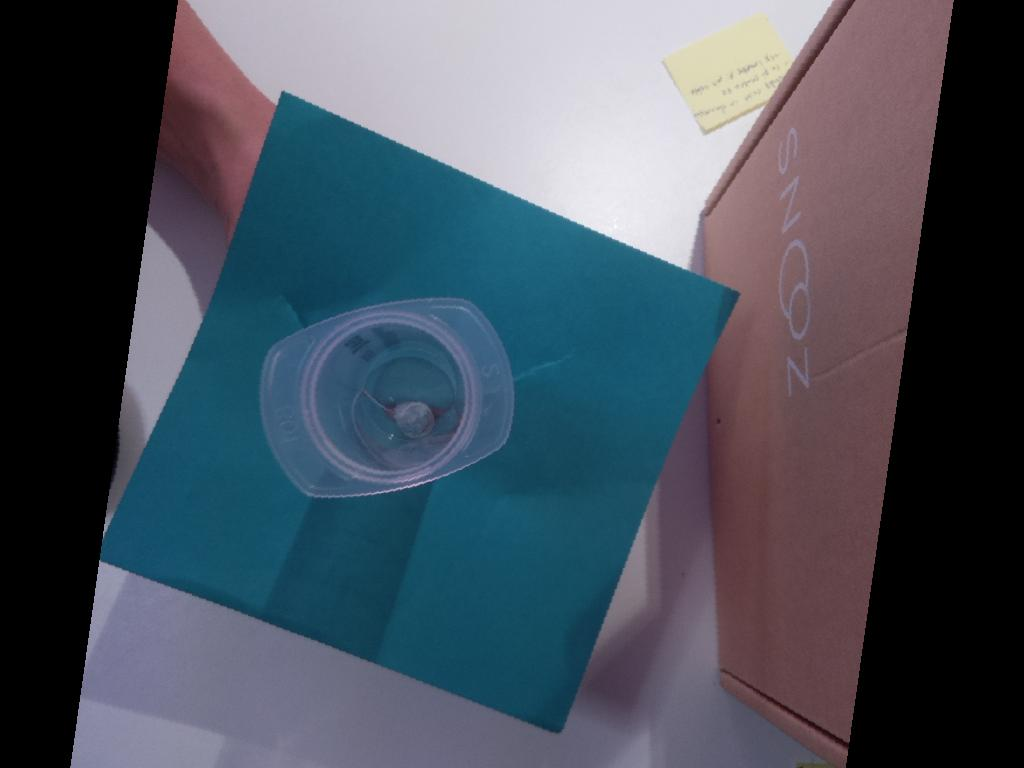clean: (260, 295, 516, 499)
